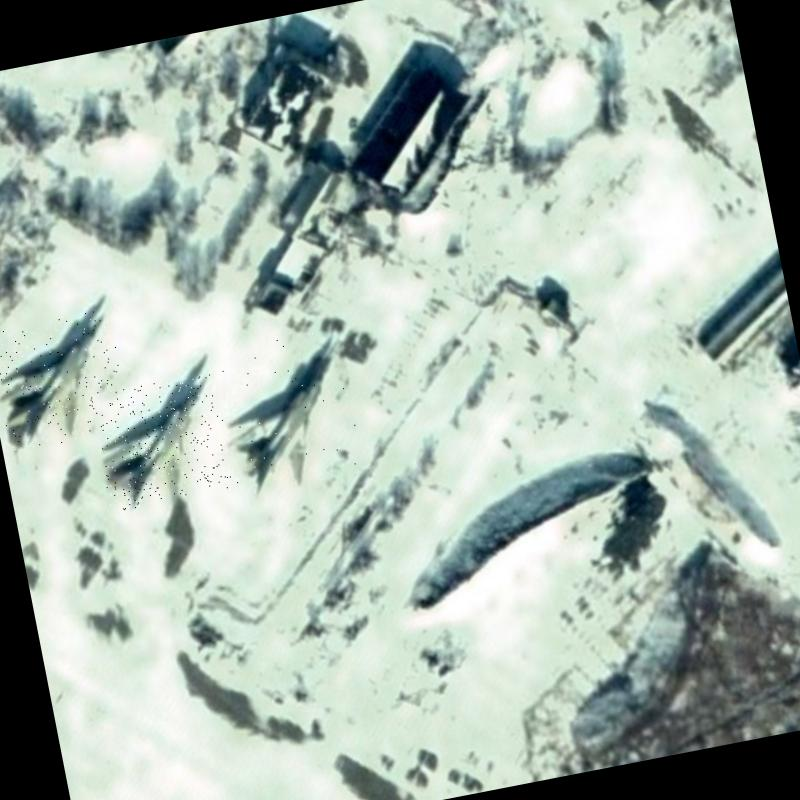A12: (208, 324, 372, 500), (88, 372, 233, 512), (0, 307, 131, 453)
